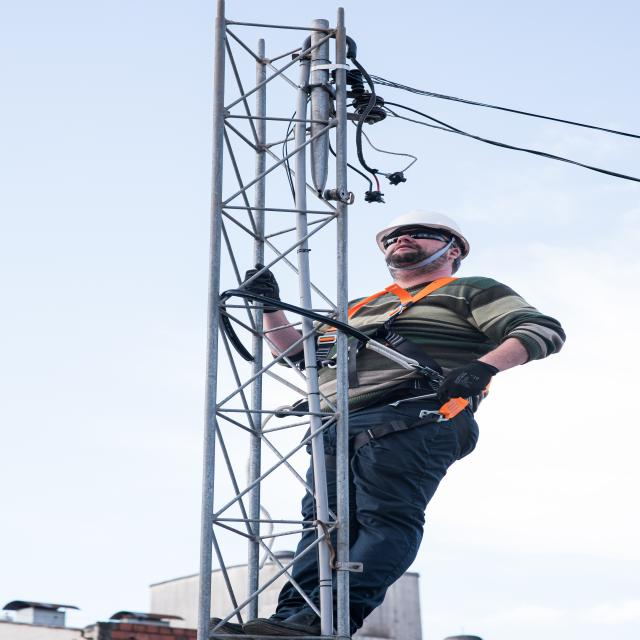capacete: (372, 208, 474, 260)
corda de vida: (296, 274, 496, 486)
luva: (431, 358, 504, 402), (241, 260, 286, 313)
